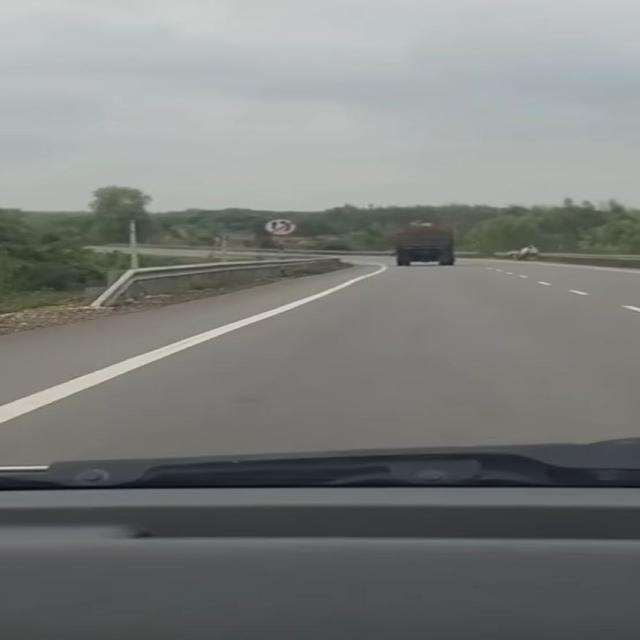No_overtaking: (266, 218, 296, 236)
